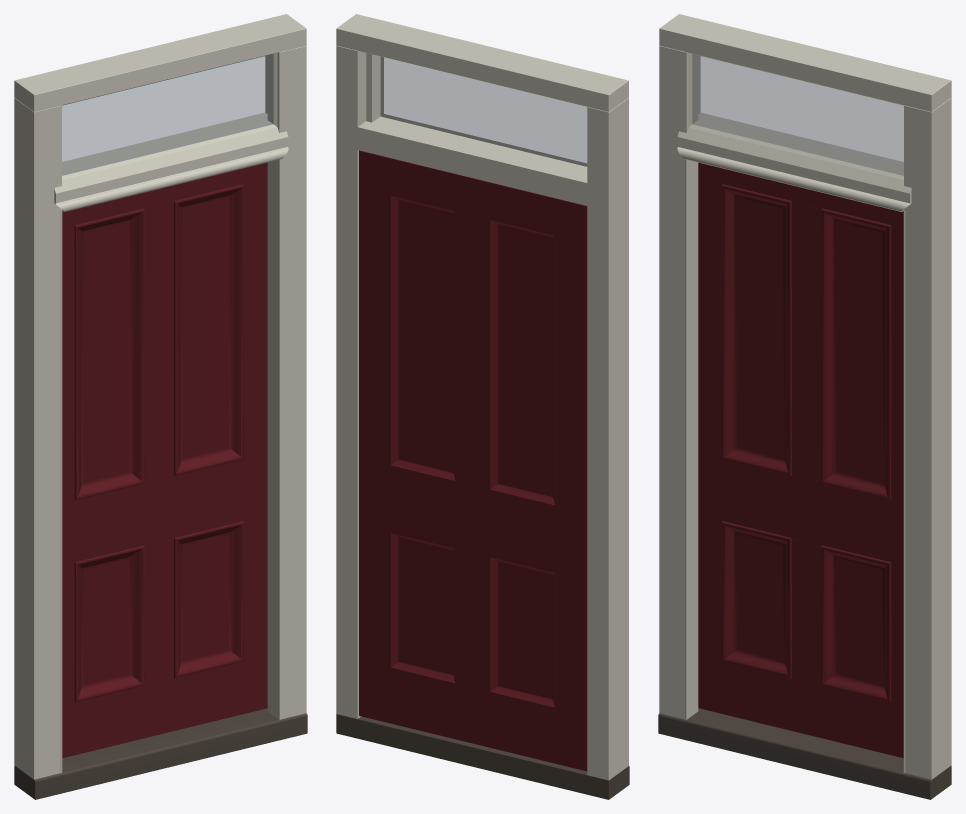
File: door_F1.glb
3 renders of one model, left to right at view 1: azimuth 30°, elevation 25°; view 2: azimuth 150°, elevation 25°; view 3: azimuth 330°, elevation 25°, orthographic.
Visible parts, largest first — view 1: leaf_frame, frame_jamb_L, frame_jamb_R, glass_fanlight, panel_top_left, panel_top_right, frame_transom, frame_head, stone_threshold, moulding_bolection_top_left, moulding_bolection_top_right, panel_bottom_left (+6 smaller); view 2: leaf_frame, frame_jamb_L, frame_jamb_R, panel_top_right, panel_top_left, glass_fanlight, frame_head, frame_transom, panel_bottom_right, panel_bottom_left, stone_threshold, moulding_single_top_right (+4 smaller); view 3: leaf_frame, frame_jamb_R, frame_jamb_L, glass_fanlight, panel_top_right, panel_top_left, frame_transom, frame_head, stone_threshold, moulding_bolection_top_right, moulding_bolection_top_left, panel_bottom_right (+6 smaller).
Boxes of the visible parts, x1,y1,x2,y2 form: leaf_frame: [62, 162, 267, 758]; frame_jamb_L: [14, 97, 61, 779]; frame_jamb_R: [265, 45, 306, 719]; glass_fanlight: [62, 54, 273, 175]; panel_top_left: [83, 221, 129, 482]; panel_top_right: [183, 197, 228, 458]; frame_transom: [54, 112, 288, 211]; frame_head: [14, 14, 306, 111]; stone_threshold: [14, 708, 307, 799]; moulding_bolection_top_left: [74, 208, 144, 499]; moulding_bolection_top_right: [174, 184, 243, 475]; panel_bottom_left: [83, 558, 129, 684]; leaf_frame: [359, 150, 587, 771]; frame_jamb_L: [587, 98, 628, 780]; frame_jamb_R: [336, 45, 380, 718]; panel_top_right: [398, 200, 453, 472]; panel_top_left: [498, 224, 552, 496]; glass_fanlight: [381, 57, 586, 166]; frame_head: [336, 14, 628, 111]; frame_transom: [357, 116, 587, 205]; panel_bottom_right: [398, 537, 453, 674]; panel_bottom_left: [498, 561, 552, 699]; stone_threshold: [336, 714, 629, 799]; moulding_single_top_right: [389, 194, 456, 482]; leaf_frame: [698, 162, 903, 758]; frame_jamb_R: [904, 97, 951, 779]; frame_jamb_L: [659, 45, 700, 719]; glass_fanlight: [692, 54, 903, 175]; panel_top_right: [836, 221, 882, 482]; panel_top_left: [737, 197, 782, 458]; frame_transom: [677, 112, 911, 211]; frame_head: [659, 14, 951, 111]; stone_threshold: [658, 708, 951, 799]; moulding_bolection_top_right: [821, 208, 891, 499]; moulding_bolection_top_left: [722, 184, 791, 475]; panel_bottom_right: [836, 558, 882, 684].
Size of the model in its own units: 1 by 2.47 by 0.149.
